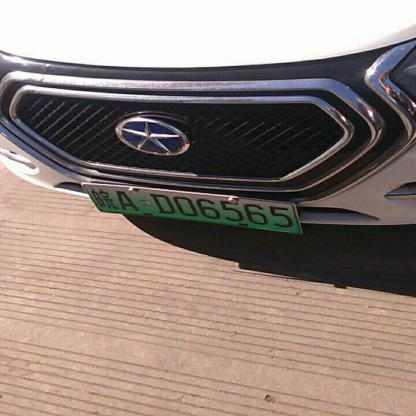lp: (84, 184, 300, 232)
